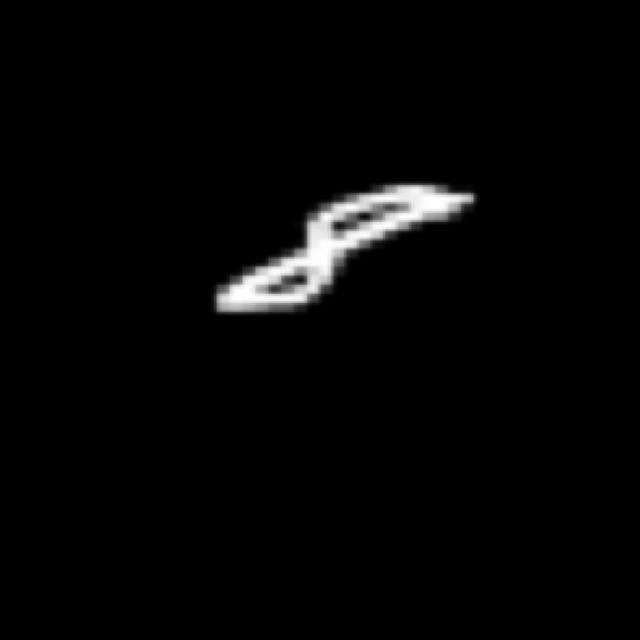eight -8-: (205, 173, 480, 319)
